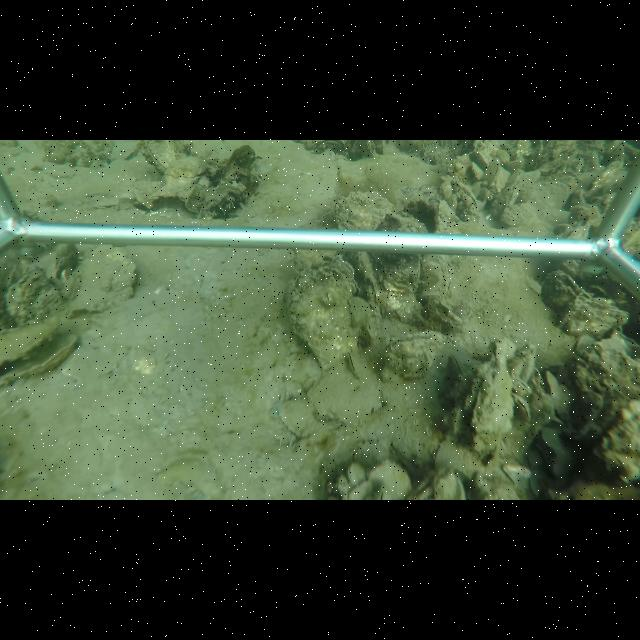Oyster-Closed: (285, 254, 359, 371), (64, 244, 139, 320), (468, 356, 517, 457), (0, 334, 82, 390), (382, 330, 445, 380), (332, 188, 398, 230), (1, 321, 59, 367), (540, 267, 595, 315), (275, 395, 317, 443), (417, 255, 456, 302), (144, 141, 176, 174), (430, 437, 456, 469), (483, 156, 503, 185), (348, 351, 361, 381)
Oyster-Open: (516, 394, 534, 422)
